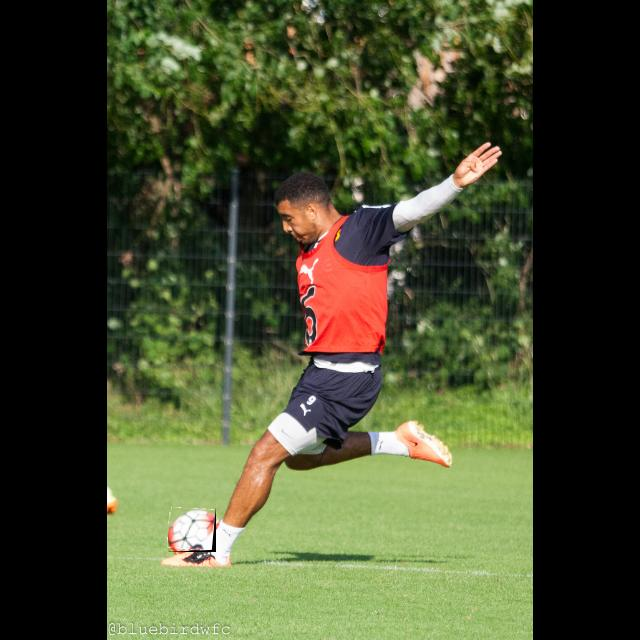Football: (168, 508, 216, 552)
